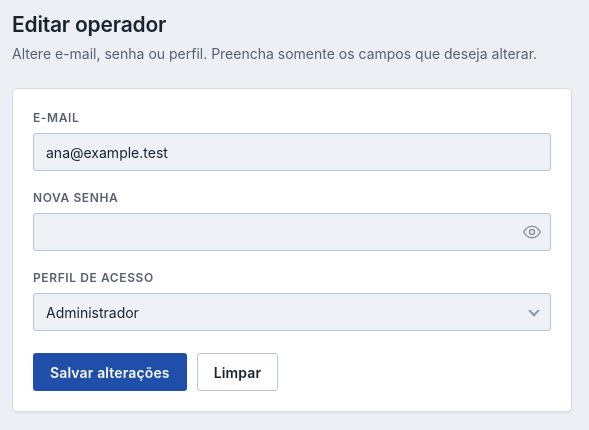
Test case: EditOperatorPage: abertura e envio parcial › envia apenas o e-mail quando só o e-mail mudou
The width and height of the screenshot is (589, 430).
Replace the text in the field labelled "E-mail" with "novo@example.test": (292, 152) 33,133 -> 551,171
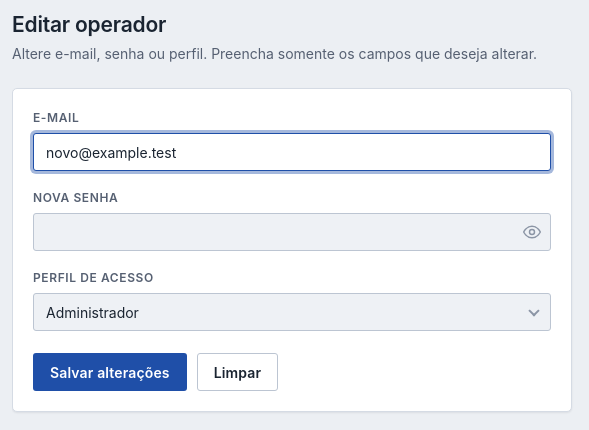
Click the button "Salvar alterações": (110, 372) 33,353 -> 187,391
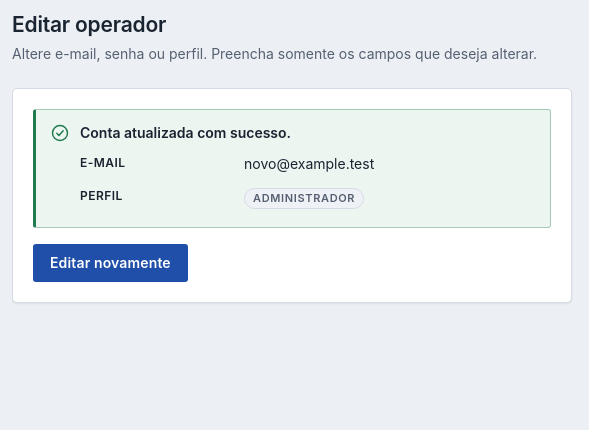
Now the text "Conta atualizada com sucesso." is shown, box 80,124 -> 291,141
